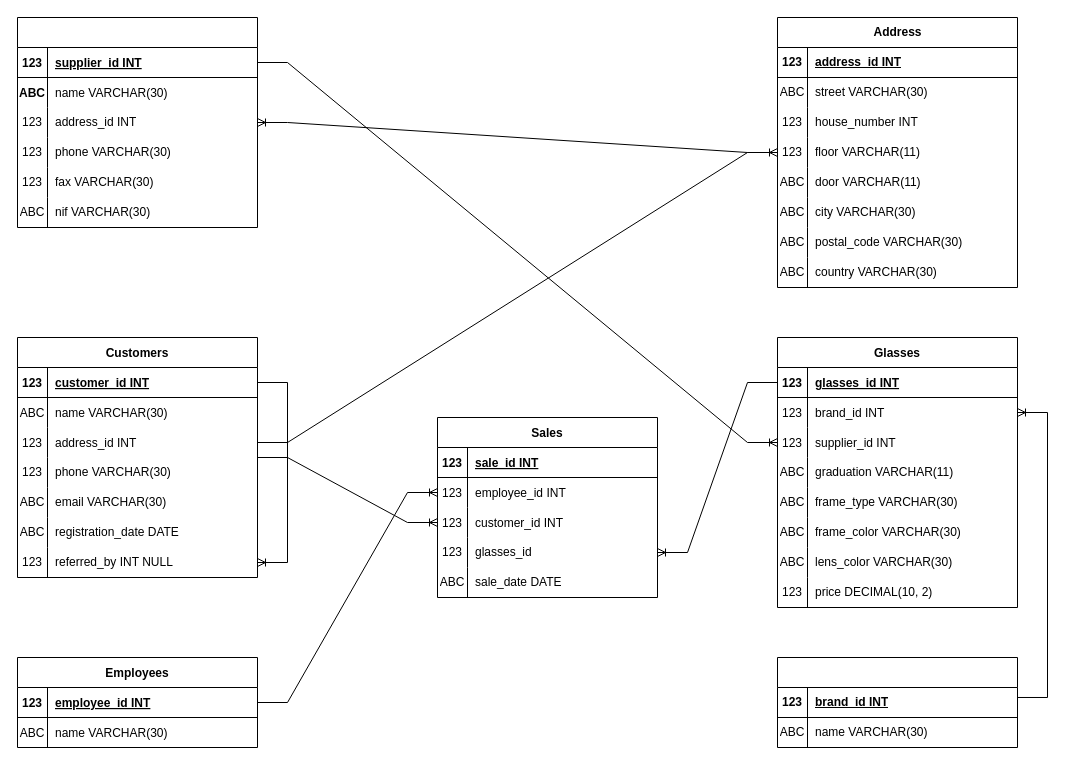
The diagram is 1073 pixels wide and 765 high, and some of its shapes have lost their labels. The box of each missing label's shape, as (x1, y1, x2, y2) in pixels:
Brands: (776, 656, 1018, 748)
Suppliers: (16, 16, 258, 228)
